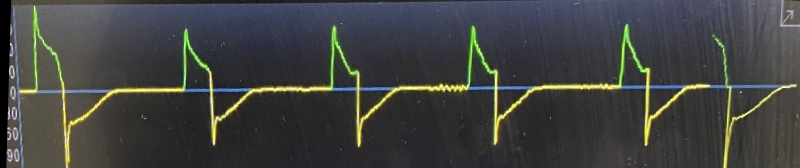normal_flow: (29, 16, 718, 151)
